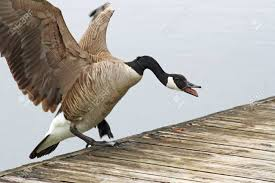goose: (1, 1, 203, 160)
